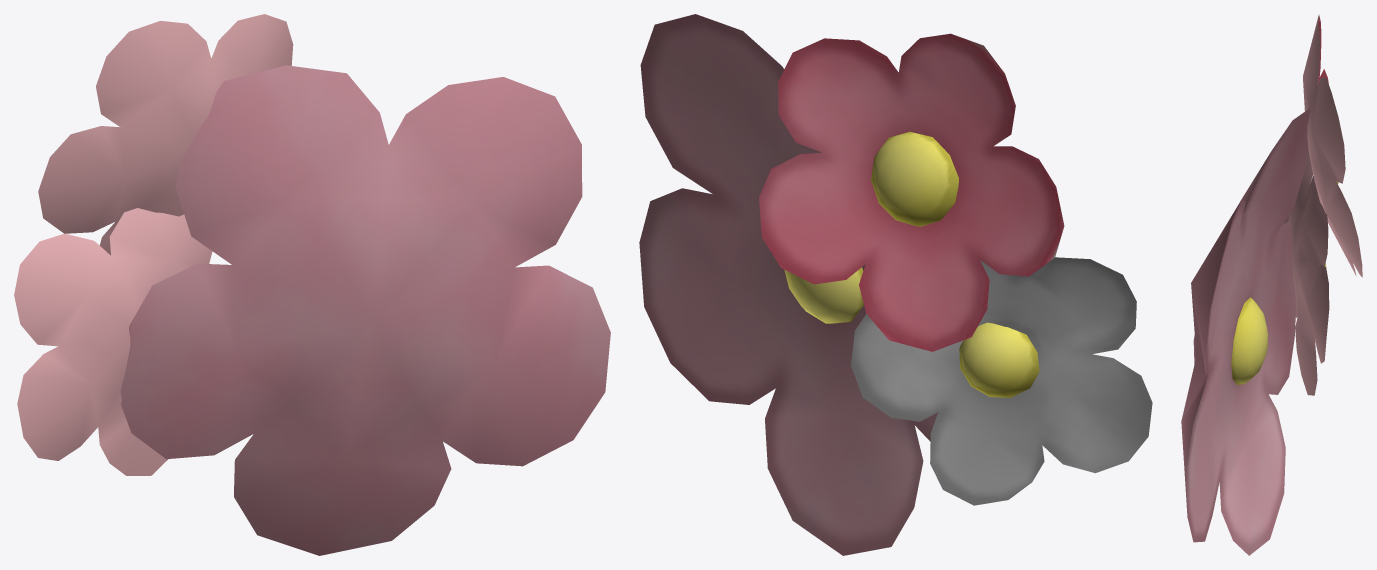
The model's file is Flowers.fbx.
3 renders of one model, left to right at view 1: azimuth 30°, elevation 25°; view 2: azimuth 150°, elevation 25°; view 3: azimuth 270°, elevation 25°, orthographic. The views are drawn at different scales.
Visible parts, largest first — view 1: Flowers; view 2: Flowers; view 3: Flowers.
Boxes of the visible parts, x1,y1,x2,y2 form: Flowers: (14,14,610,555); Flowers: (639,14,1152,555); Flowers: (1181,15,1362,555).
Size of the model in its own units: 8790 by 8508 by 3029.
1 material, 1 textured.
